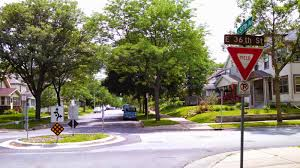yield_sign: (226, 46, 263, 81)
